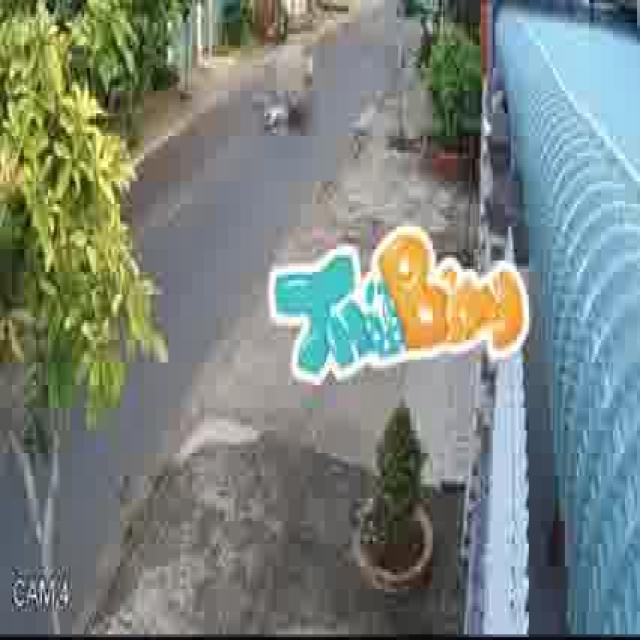multiple_accident: (246, 43, 318, 149)
